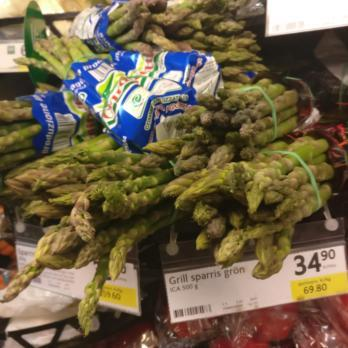Asparagus: (225, 76, 338, 278), (22, 142, 228, 245), (116, 6, 272, 83), (2, 241, 113, 331), (0, 86, 104, 150)
